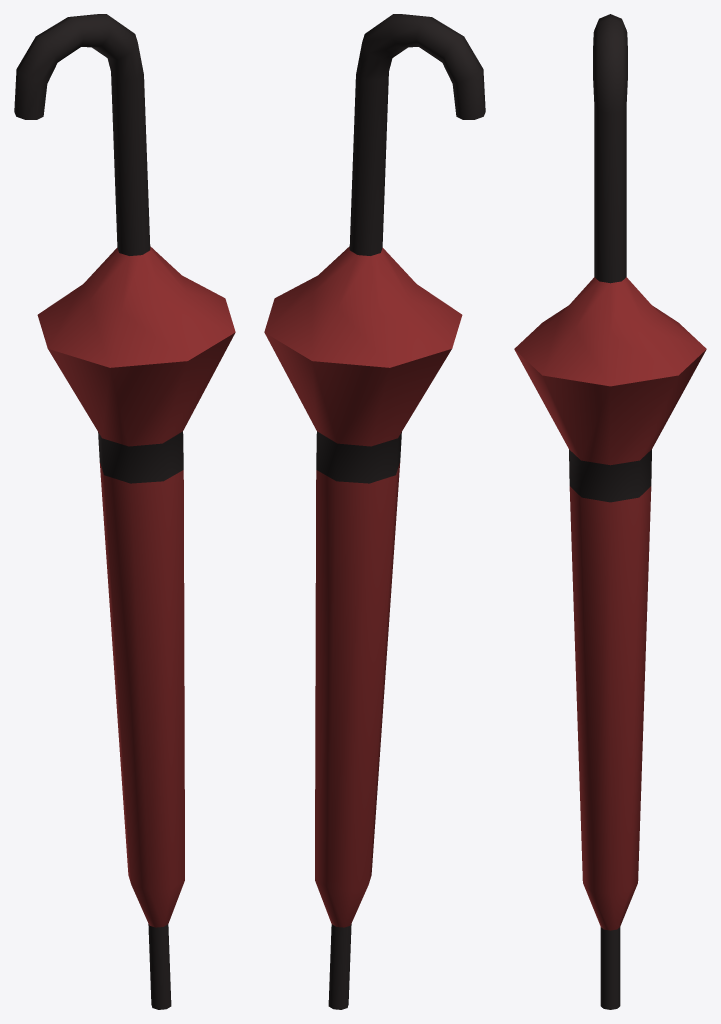
File: 37_prop_umbrella.FBX
The picture shows the model from 3 angles, left to right: view 1: azimuth 30°, elevation 25°; view 2: azimuth 150°, elevation 25°; view 3: azimuth 270°, elevation 25°; orthographic projection. The views are drawn at different scales.
Visible parts, largest first — view 1: prop_umbrella; view 2: prop_umbrella; view 3: prop_umbrella.
Part boxes in pixels (bbox=[...]): prop_umbrella: bbox=[14, 14, 235, 1009]; prop_umbrella: bbox=[264, 14, 485, 1009]; prop_umbrella: bbox=[514, 14, 706, 1009].
Size of the model in its own units: 12.97 by 59.79 by 11.02.
